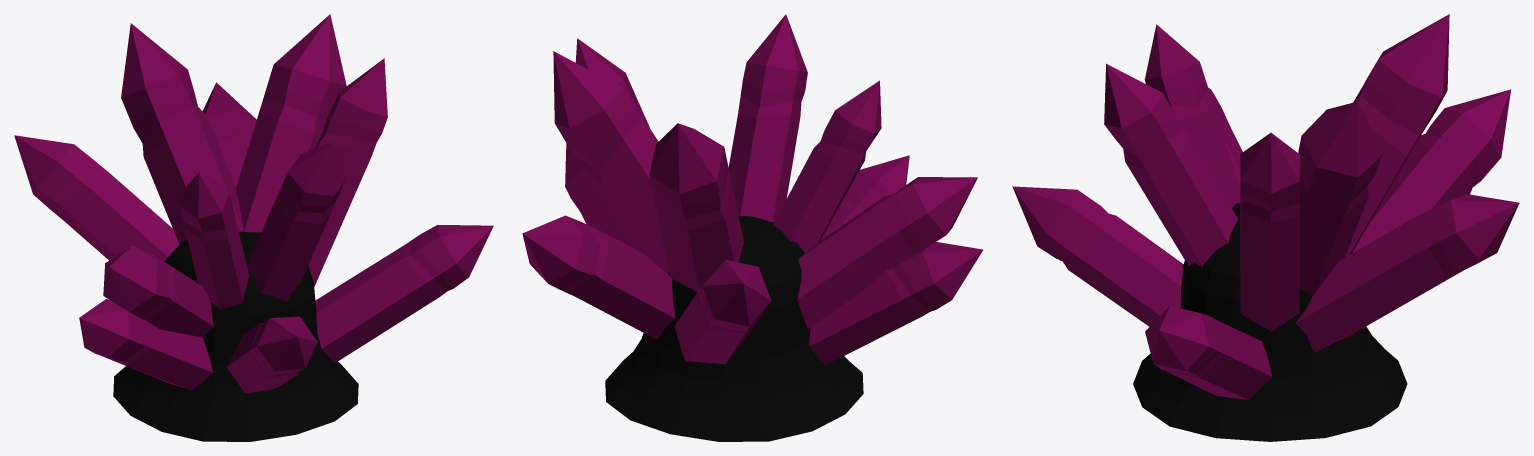
The model's file is mineral.glb.
3 views of the same model, side by side, from view 1: azimuth 30°, elevation 25°; view 2: azimuth 150°, elevation 25°; view 3: azimuth 270°, elevation 25° (orthographic). The views are drawn at different scales.
Parts seen in each view (by area): view 1: mesh_mm1, Mineral_Cube.024; view 2: mesh_mm1, Mineral_Cube.024; view 3: mesh_mm1, Mineral_Cube.024.
Boxes of the visible parts, bbox=[...] form: mesh_mm1: bbox=[14, 14, 493, 393]; Mineral_Cube.024: bbox=[113, 231, 358, 441]; mesh_mm1: bbox=[522, 14, 983, 364]; Mineral_Cube.024: bbox=[605, 216, 863, 441]; mesh_mm1: bbox=[1012, 14, 1519, 399]; Mineral_Cube.024: bbox=[1133, 203, 1407, 441].
Bounding box in the file's own units: 0.5876 × 0.4367 × 0.5644.
